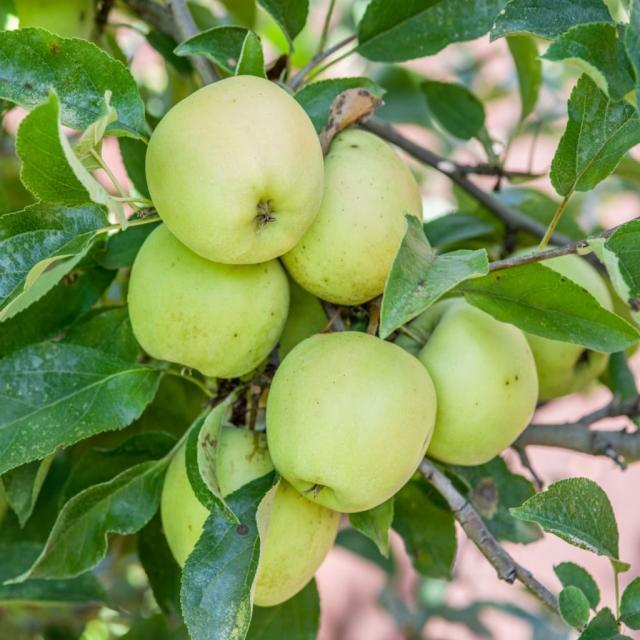Green Apple: (272, 330, 443, 503), (177, 423, 349, 594), (156, 83, 329, 252), (401, 306, 545, 471), (289, 127, 424, 296), (146, 223, 295, 367), (503, 251, 624, 378)
